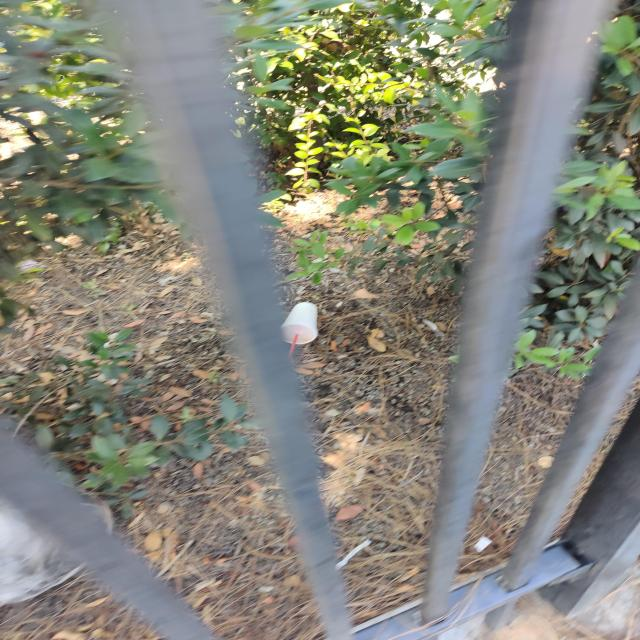litter: (283, 302, 320, 358)
